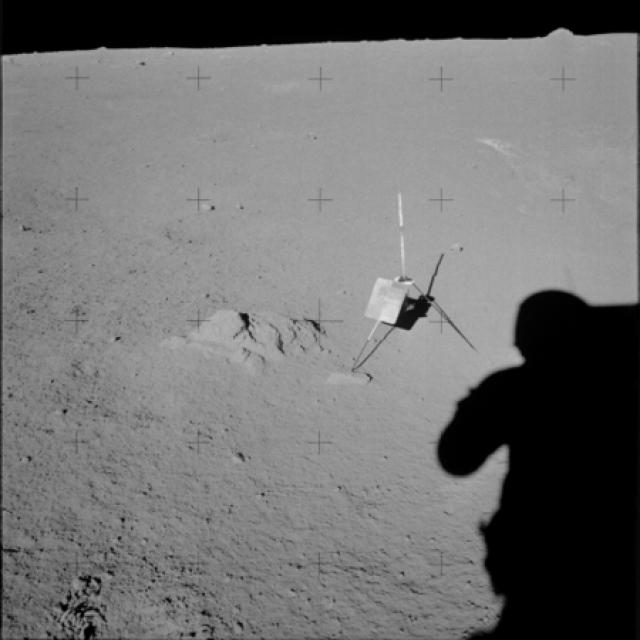crater: (148, 196, 312, 262)
rock: (157, 305, 342, 376)
